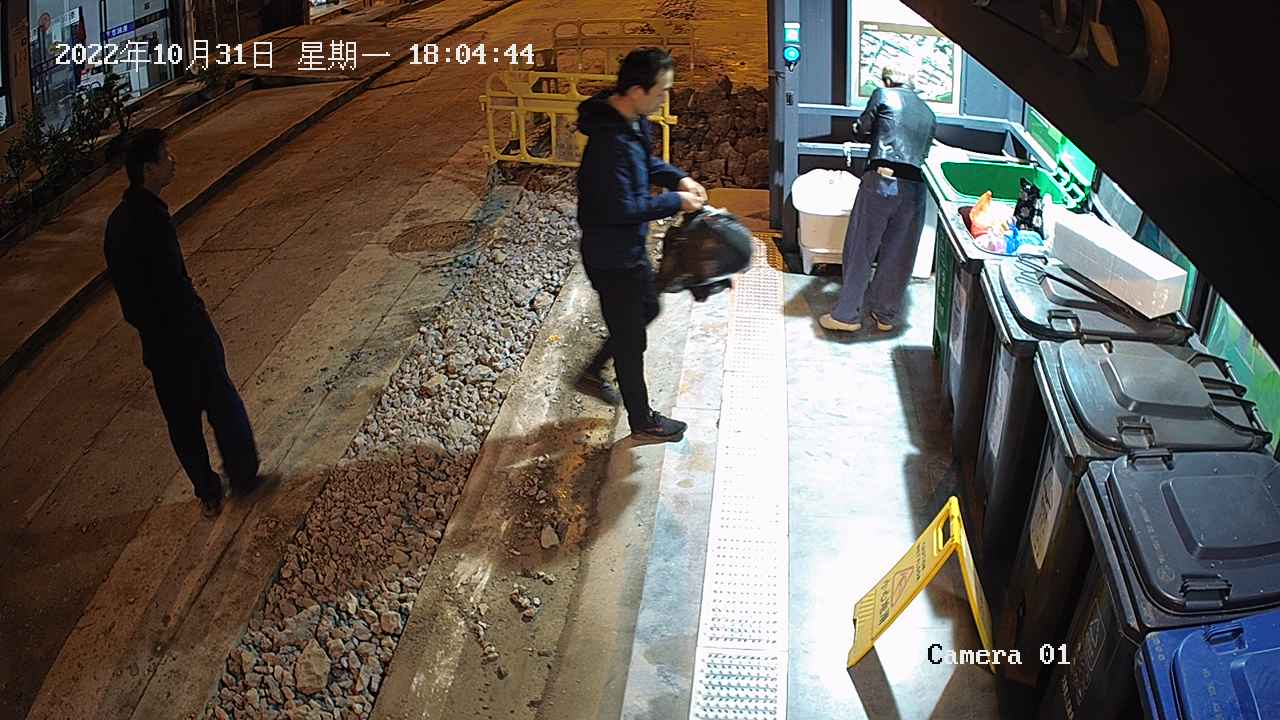garbage-bag: (654, 203, 753, 303)
person: (102, 126, 284, 523), (569, 46, 709, 442), (817, 59, 938, 334)
